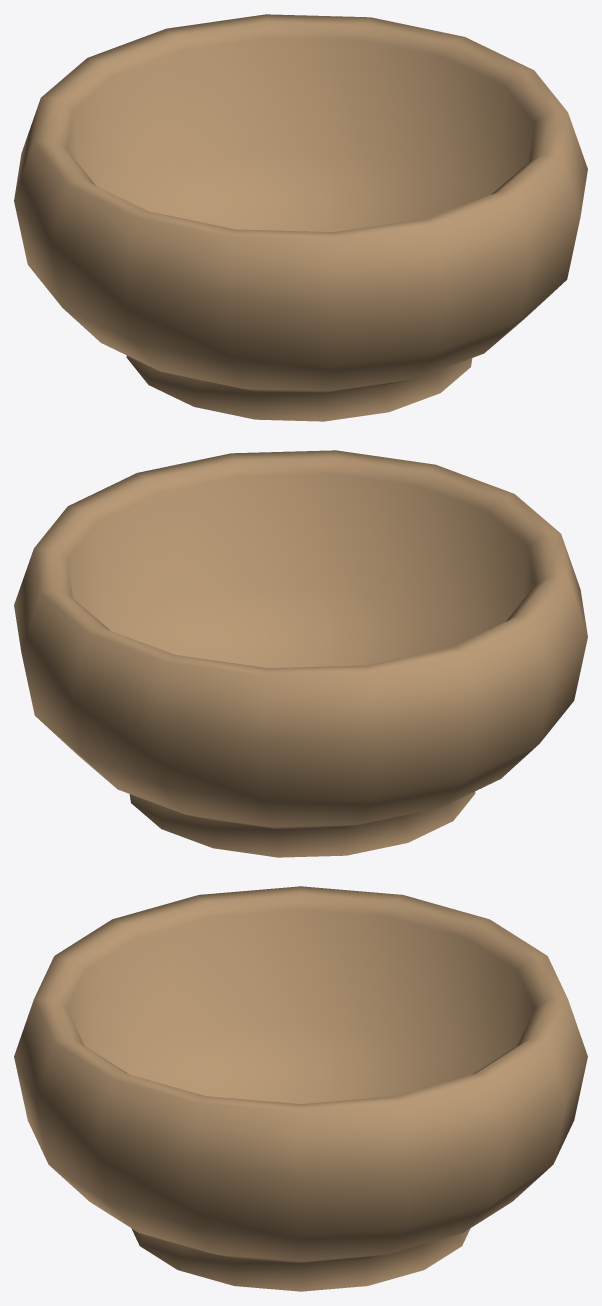
Rendered from bowl_003.fbx.
3 views of the same model, one above another, from view 1: azimuth 30°, elevation 25°; view 2: azimuth 150°, elevation 25°; view 3: azimuth 270°, elevation 25° (orthographic).
Visible parts, largest first — view 1: bowl_003; view 2: bowl_003; view 3: bowl_003.
Boxes of the visible parts, left/top/right/bottom form: bowl_003: left=14, top=14, right=587, bottom=421; bowl_003: left=14, top=450, right=587, bottom=857; bowl_003: left=14, top=886, right=587, bottom=1291.
Size of the model in its own units: 71.34 by 30 by 71.34.
Materials: 1 (1 with a texture image).
